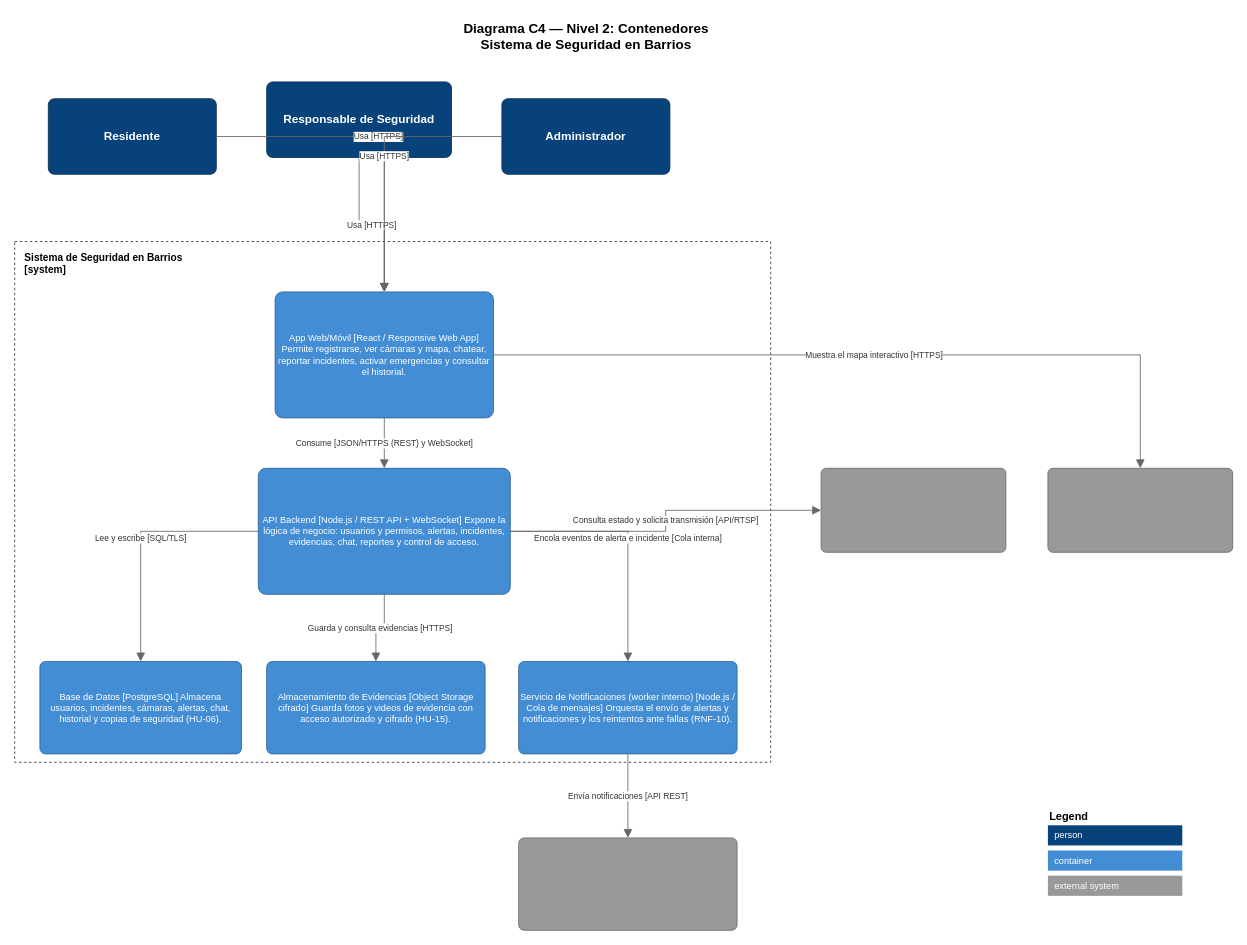
Some shapes in this 1247 by 945 pixel diagram are drawn without their labels. The shapes that lost their labels are listed below. From the top down, each one's centre as x and y in pixels, then its label:
the point at 913,509: Cámaras IP del barrio Proveen estado y transmisión de video.
the point at 1140,509: Servicio de Mapas Provee el mapa interactivo de la comunidad.
the point at 627,883: Servicio de Notificaciones Proveedor externo de envío de SMS / push / correo.
